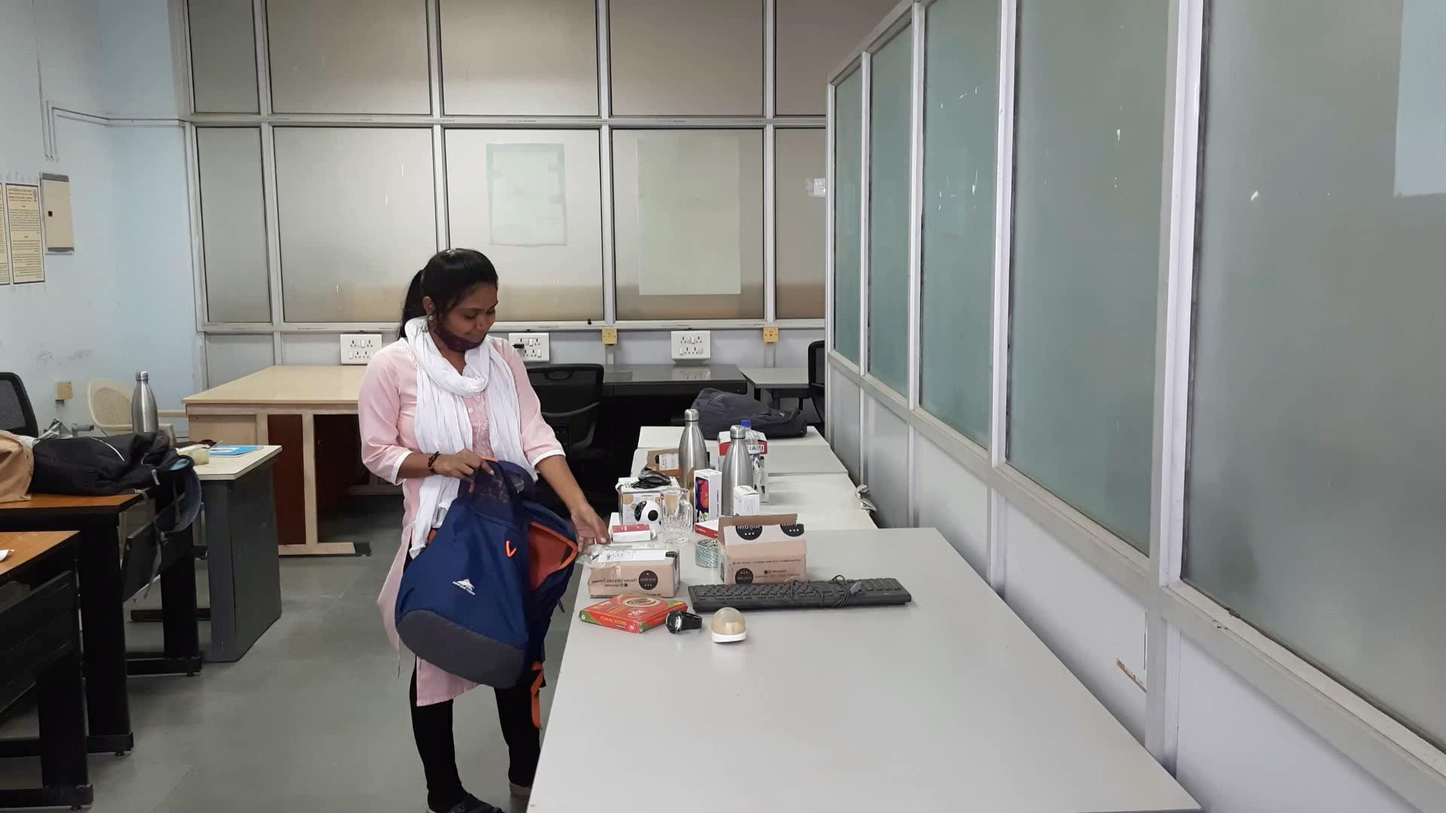shoplifting: (288, 404, 836, 741)
